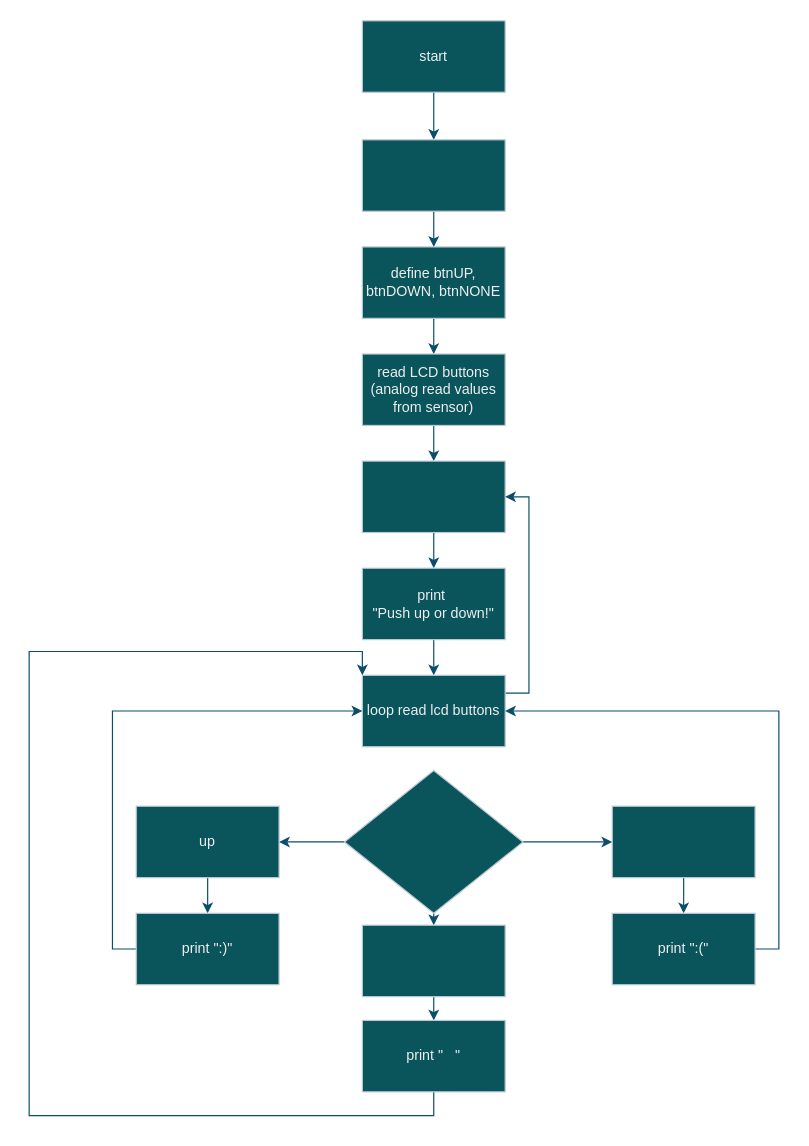
Some shapes in this 809 by 1146 pixel diagram are drawn without their labels. Each missing label, with the box of its shape:
detect in mv which button is pressed or if no button is being pressed: (361, 460, 505, 533)
down: (611, 805, 755, 878)
include neccesary LiquidCrystal.h library: (361, 139, 505, 211)
nothing: (361, 924, 505, 997)
user presses, up, down, or nothing: (343, 769, 523, 913)
